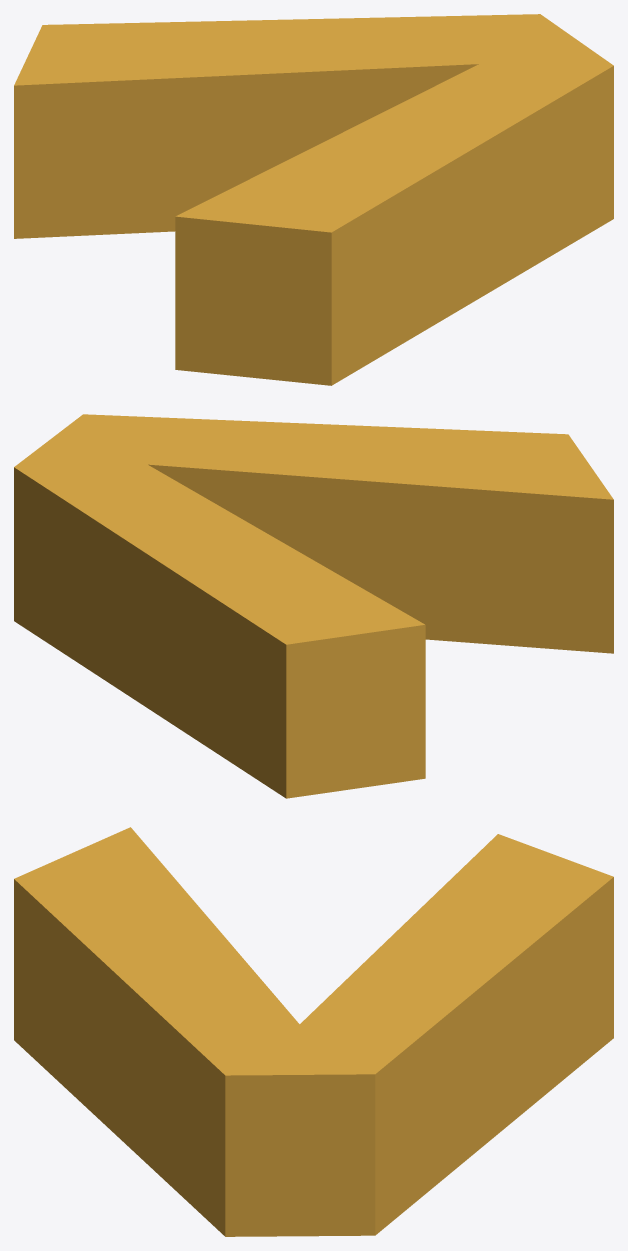
File: letter_v.fbx
3 renders of one model, top to bottom at view 1: azimuth 30°, elevation 25°; view 2: azimuth 150°, elevation 25°; view 3: azimuth 270°, elevation 25°, orthographic. The views are drawn at different scales.
Parts seen in each view (by area): view 1: V; view 2: V; view 3: V.
Part boxes in pixels (<box>): V: <box>14,14,613,385</box>; V: <box>14,414,613,798</box>; V: <box>14,827,613,1236</box>.
Size of the model in its own units: 505 by 153 by 516.
